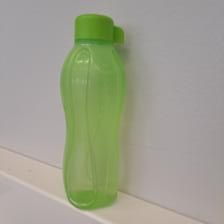bottle: (59, 14, 128, 209)
